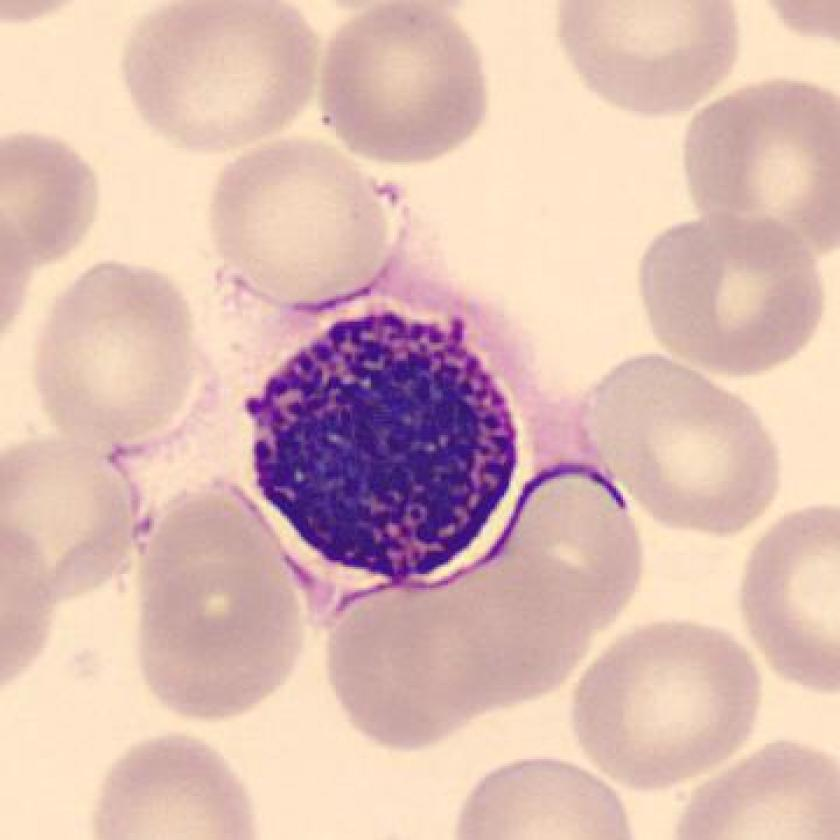basophil: (211, 295, 542, 589)
